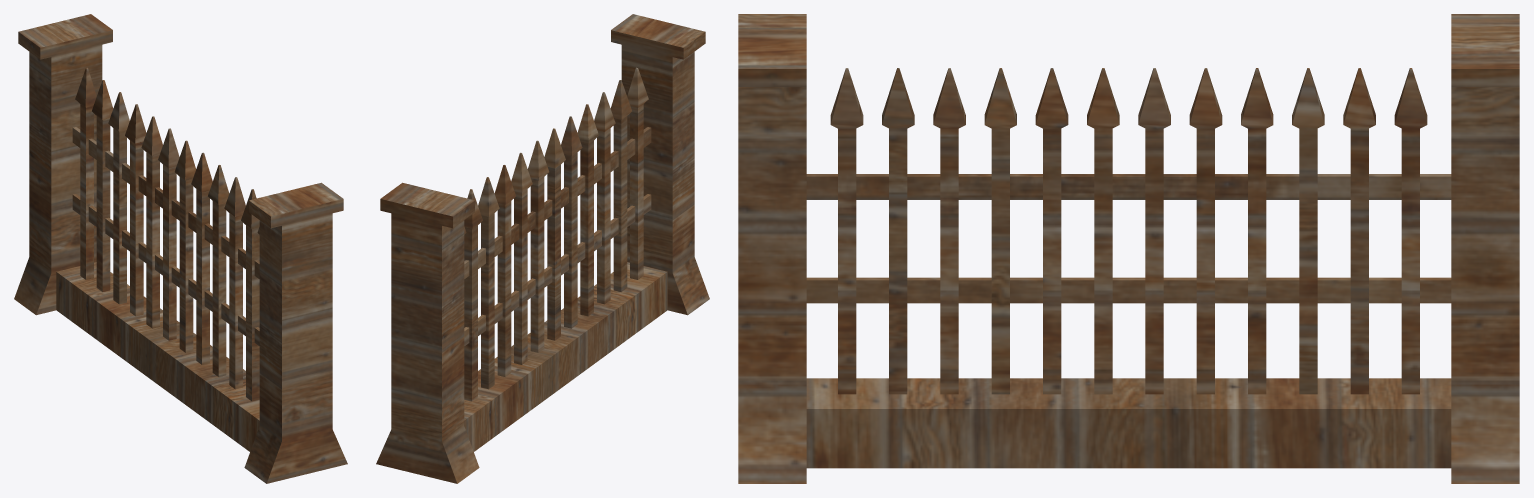
File: Wall.fbx
3 views of the same model, side by side, from view 1: azimuth 30°, elevation 25°; view 2: azimuth 150°, elevation 25°; view 3: azimuth 270°, elevation 25° (orthographic). The views are drawn at different scales.
Parts seen in each view (by area): view 1: wall; view 2: wall; view 3: wall.
Boxes of the visible parts, <box> form: wall: <box>14,14,347,483</box>; wall: <box>376,14,709,483</box>; wall: <box>738,14,1519,483</box>.
Size of the model in its own units: 5.67 by 17.73 by 30.47.
